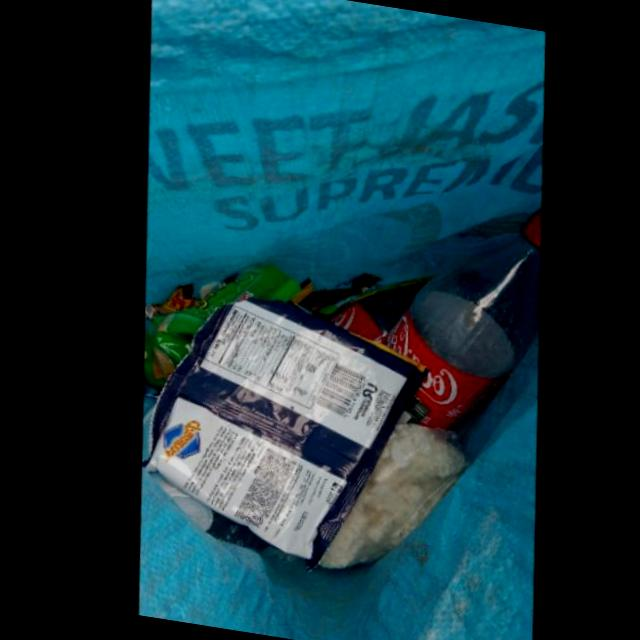bao_bi_thuc_pham: (142, 294, 425, 575), (143, 265, 301, 389)
chai_nhua_pet: (385, 212, 540, 433)
thuc_an_thua: (319, 426, 470, 572)
